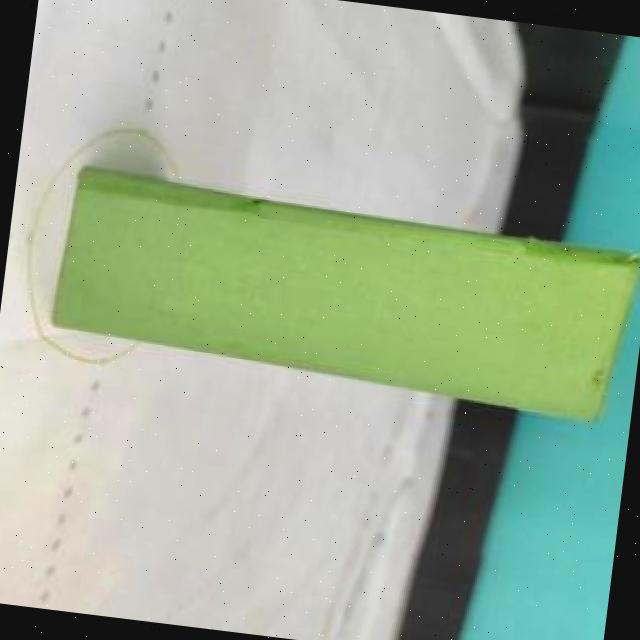greenbox: (48, 165, 640, 429)
